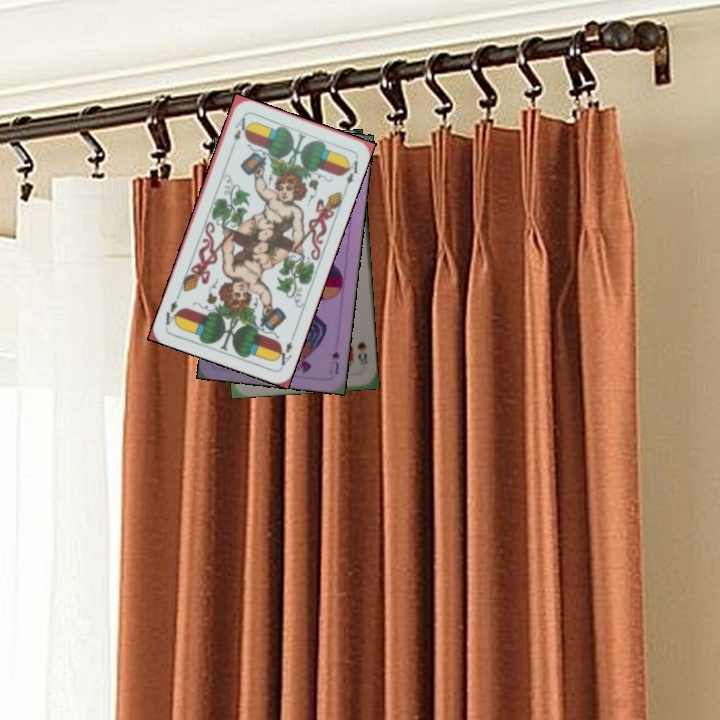EA: (272, 330, 297, 369), (230, 113, 248, 144)
S8: (353, 338, 370, 367)
SU: (326, 347, 342, 377)
